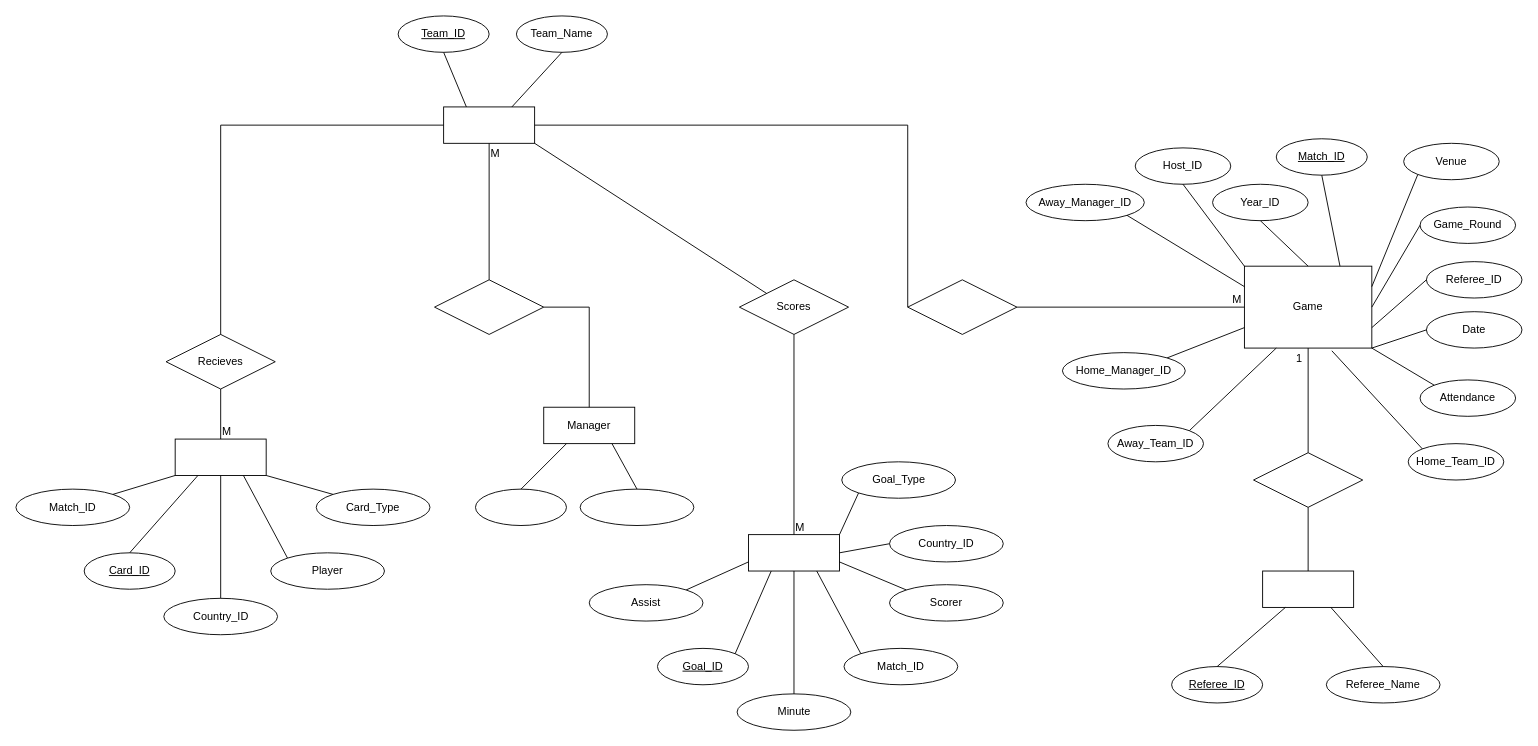
Image size: 1538x746. Some labels were removed from this diagram. The shapes that lost their labels are listed below. From the top down, each one's centre as x and y in pixels, then its label:
[489,124]: Team
[489,306]: Manages
[962,306]: Plays
[220,456]: Card
[1308,479]: Officiates
[520,507]: Manager_ID
[636,507]: Manager_Name
[793,552]: Goal
[1308,588]: Referee
